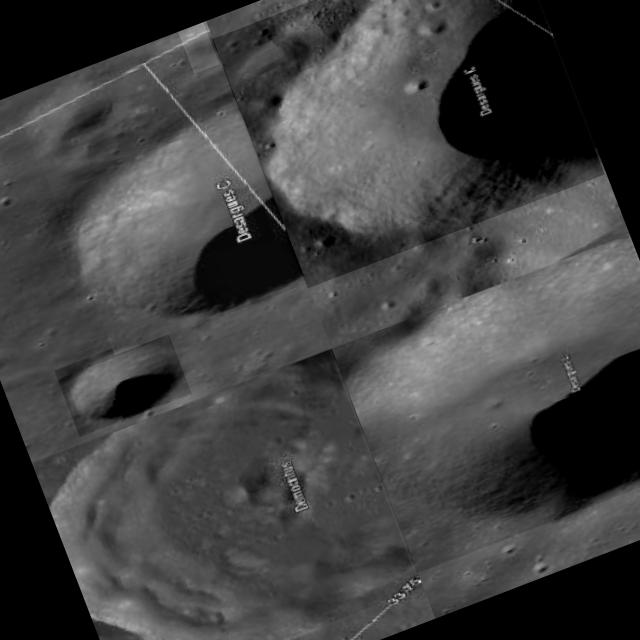crater: (32, 348, 421, 640), (212, 0, 605, 288), (331, 235, 640, 573), (45, 102, 304, 355), (55, 328, 192, 437), (178, 22, 220, 74)
